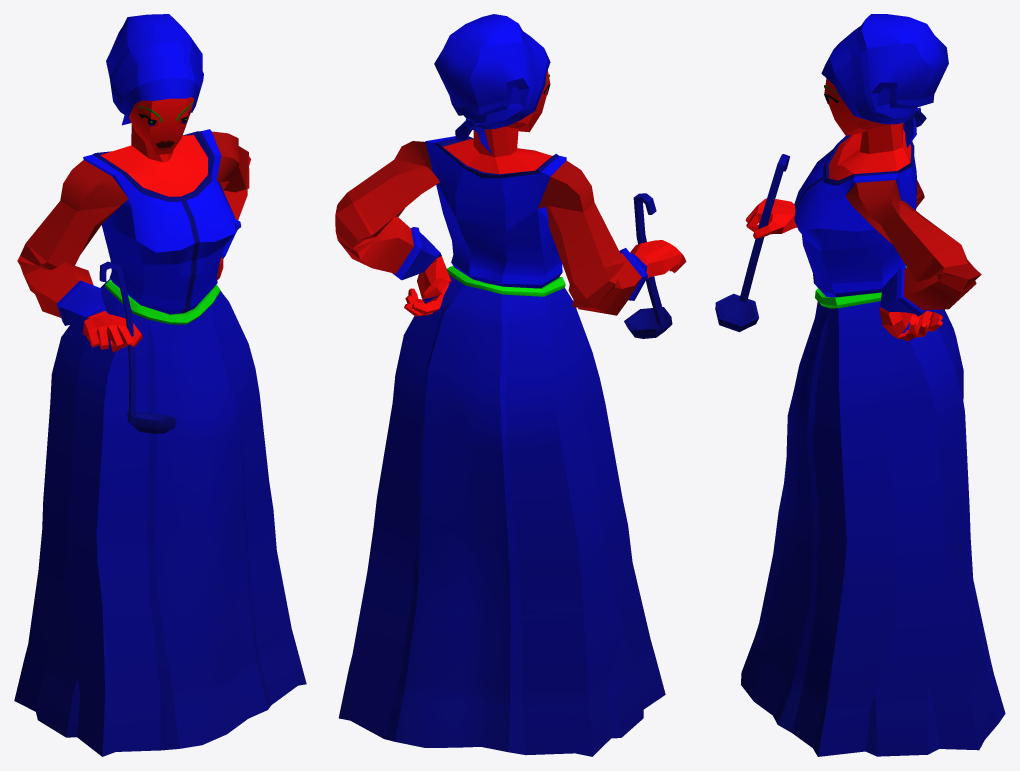
Rendered from F_Cook_prePosed.fbx.
3 renders of one model, left to right at view 1: azimuth 30°, elevation 25°; view 2: azimuth 150°, elevation 25°; view 3: azimuth 270°, elevation 25°, orthographic. The views are drawn at different scales.
Visible parts, largest first — view 1: F_Cook_prePosed; view 2: F_Cook_prePosed; view 3: F_Cook_prePosed.
Part boxes in pixels (bbox=[...]): F_Cook_prePosed: bbox=[14, 14, 306, 756]; F_Cook_prePosed: bbox=[335, 14, 686, 756]; F_Cook_prePosed: bbox=[715, 14, 1005, 756].
Size of the model in its own units: 81.71 by 207 by 80.
